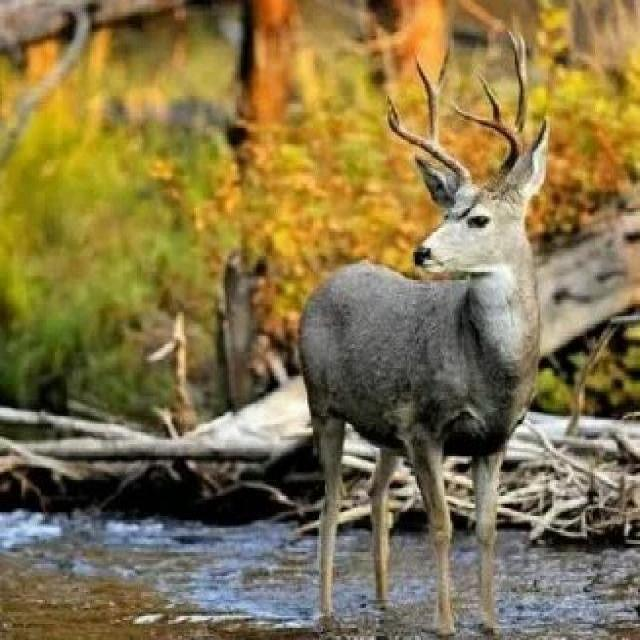deer: (225, 10, 621, 621)
